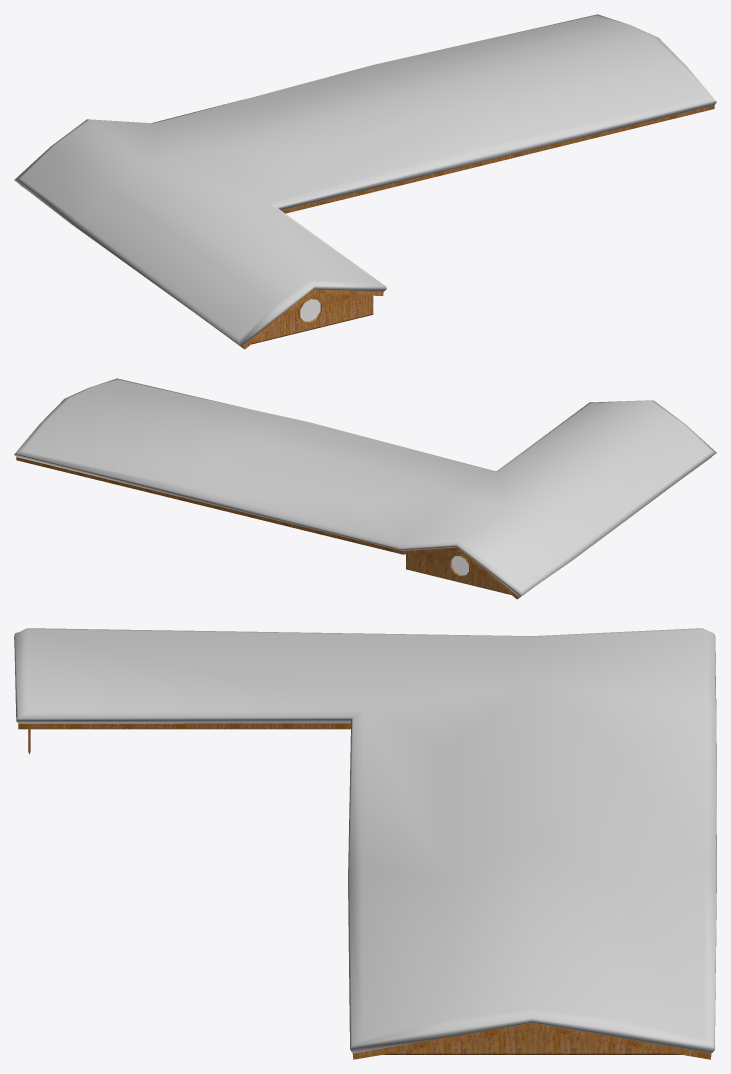
File: roofTest.fbx
3 views of the same model, one above another, from view 1: azimuth 30°, elevation 25°; view 2: azimuth 150°, elevation 25°; view 3: azimuth 270°, elevation 25° (orthographic). The views are drawn at different scales.
Parts seen in each view (by area): view 1: RoofSnow, Roof, RoofWalls; view 2: RoofSnow, Roof, RoofWalls; view 3: RoofSnow, Roof, RoofWalls.
Part boxes in pixels (left/top/right/bottom): RoofSnow: left=14, top=14, right=716, bottom=346; Roof: left=20, top=105, right=714, bottom=349; RoofWalls: left=251, top=293, right=373, bottom=344; RoofSnow: left=14, top=378, right=716, bottom=596; Roof: left=16, top=457, right=711, bottom=599; RoofWalls: left=406, top=551, right=510, bottom=594; RoofSnow: left=14, top=628, right=716, bottom=1053; Roof: left=18, top=723, right=711, bottom=1059; RoofWalls: left=28, top=729, right=681, bottom=1054.
Size of what is drawn, in the model's own units: 93.41 by 7.76 by 62.93.
